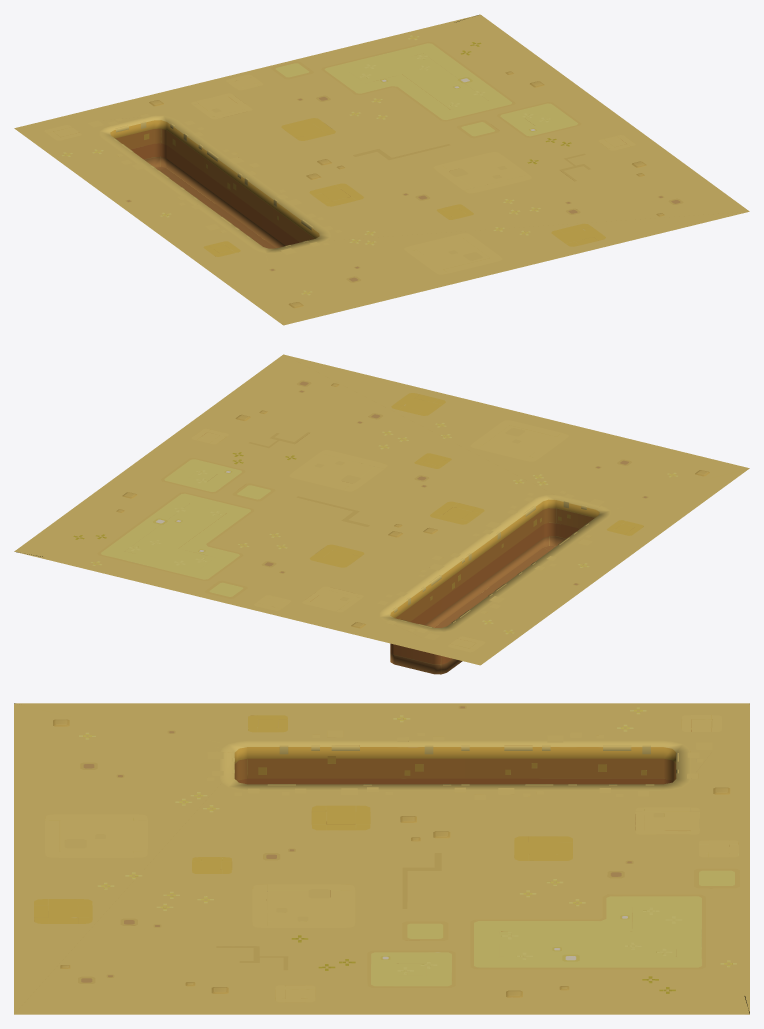
Rendered from C_mountain1_01.fbx.
The picture shows the model from 3 angles, top to bottom: view 1: azimuth 30°, elevation 25°; view 2: azimuth 150°, elevation 25°; view 3: azimuth 270°, elevation 25°; orthographic projection. The views are drawn at different scales.
Parts seen in each view (by area): view 1: C_mountain1_01.002; view 2: C_mountain1_01.002; view 3: C_mountain1_01.002.
Part boxes in pixels (<box>): C_mountain1_01.002: <box>14,14,749,325</box>; C_mountain1_01.002: <box>14,354,749,674</box>; C_mountain1_01.002: <box>14,703,749,1014</box>.
Bounding box in the file's own units: 50 × 4.94 × 50.
